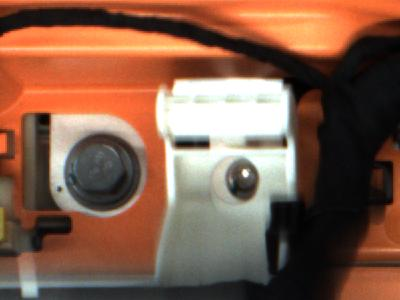nut_b: (60, 133, 149, 212)
